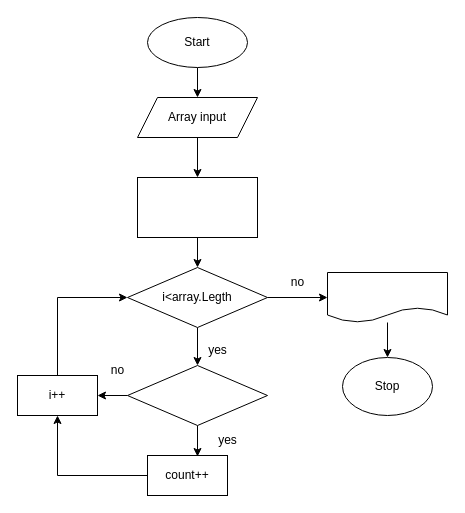
This 465x513 diagram has some shape labels left out. Each missing label, with the centre of its shape:
count = 0; i=0;: the point at 197,207
if array.Length<=3: the point at 197,395
Print count: the point at 387,297
